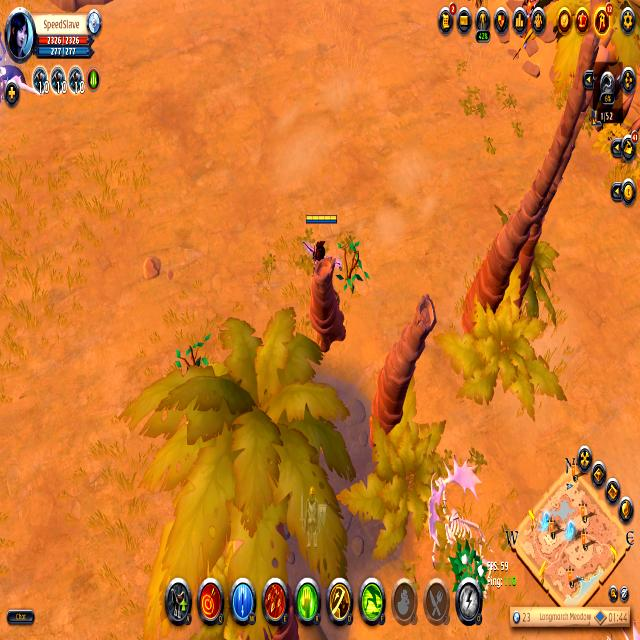hide: (448, 539, 488, 592)
red: (303, 211, 337, 276)
